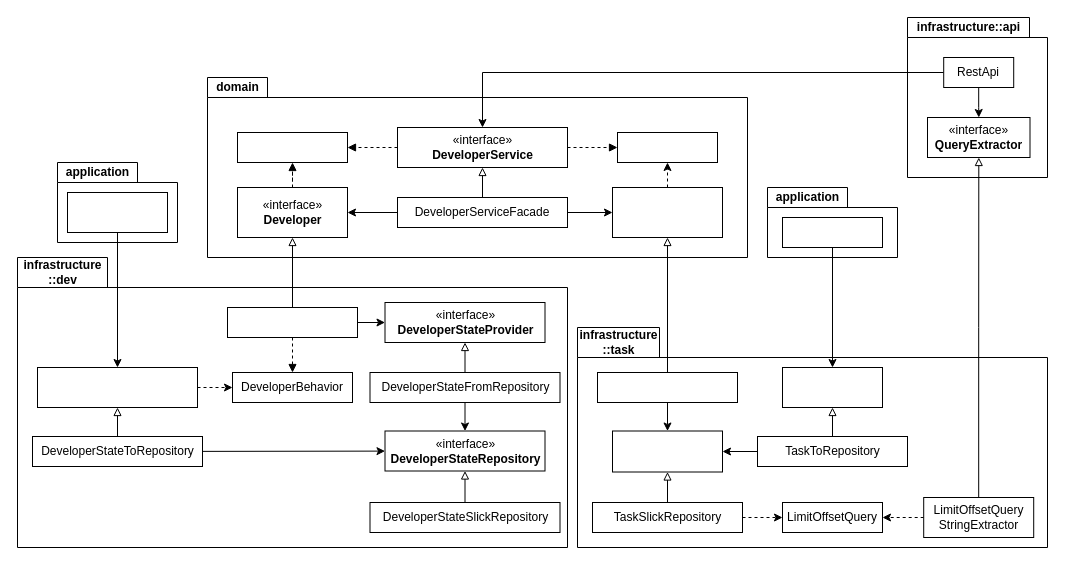
Image size: 1065x565. Some labels were removed from this diagram. Each missing label, with the centre of its shape:
DeveloperState: (292,147)
DeveloperState Projection: (117,212)
PersistentDeveloper: (292,322)
Task: (667,147)
TaskProjection: (832,232)
TasksFromRepository: (667,387)
«interface» DeveloperStateHandler: (117,387)
«interface» TaskHandler: (832,387)
«interface» TaskRepository: (667,451)
«interface» Tasks: (667,212)
